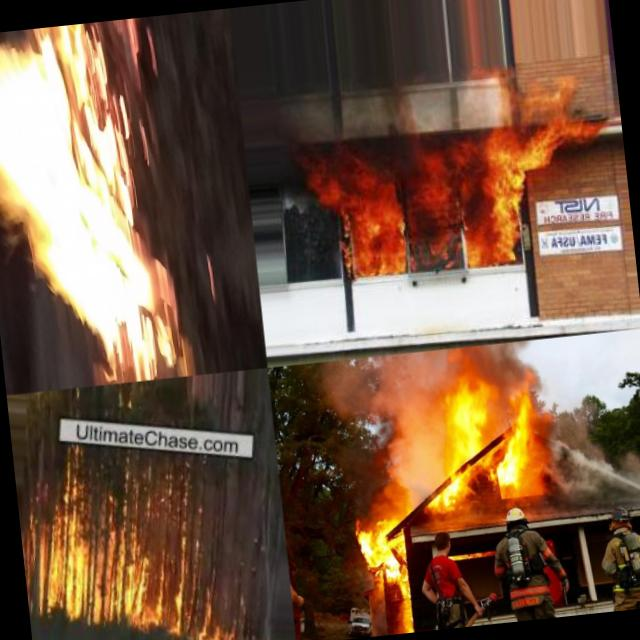fire: (0, 13, 208, 327), (21, 499, 160, 640), (405, 135, 537, 274), (414, 373, 538, 509), (300, 143, 410, 283), (522, 100, 606, 171), (472, 58, 580, 113), (353, 511, 410, 584), (391, 579, 417, 634)
smoke: (318, 352, 428, 518), (532, 416, 614, 516), (276, 95, 374, 168), (366, 82, 424, 166), (412, 341, 524, 383)
